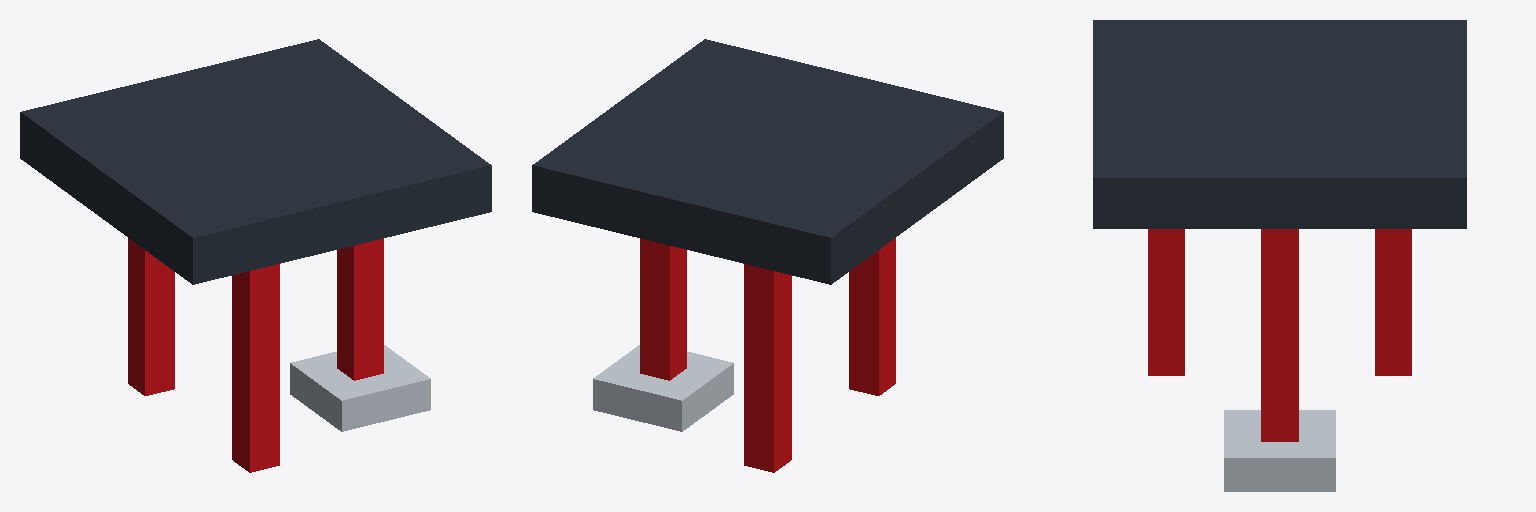
robot.urdf — delta_picker:
<?xml version="1.0"?>
<robot name="delta_picker" version="1.2">
  <material name="frame">
    <color rgba="0.22 0.25 0.29 1"/>
  </material>
  <material name="arm_red">
    <color rgba="0.84 0.12 0.14 1"/>
  </material>
  <material name="tool">
    <color rgba="0.8 0.83 0.86 1"/>
  </material>
  <link name="base_link">
    <inertial><origin xyz="0 0 0" rpy="0 0 0"/><mass value="12"/><inertia ixx="0.01" ixy="0" ixz="0" iyy="0.01" iyz="0" izz="0.01"/></inertial>
    <visual><origin xyz="0 0 0" rpy="0 0 0"/><geometry><mesh filename="meshes/top-platform.stl"/></geometry><material name="frame"/></visual>
    <collision><origin xyz="0 0 0" rpy="0 0 0"/><geometry><box size="0.8 0.8 0.12"/></geometry></collision>
  </link>
  <link name="upper_arm_1">
    <inertial><origin xyz="0 0 0" rpy="0 0 0"/><mass value="1.2"/><inertia ixx="0.01" ixy="0" ixz="0" iyy="0.01" iyz="0" izz="0.01"/></inertial>
    <visual><origin xyz="0 0 -0.29" rpy="0 0 0"/><geometry><box size="0.08 0.08 0.58"/></geometry><material name="arm_red"/></visual>
    <collision><origin xyz="0 0 -0.29" rpy="0 0 0"/><geometry><box size="0.08 0.08 0.58"/></geometry></collision>
  </link>
  <joint name="shoulder_1" type="revolute"><parent link="base_link"/><child link="upper_arm_1"/><origin xyz="0.2800 0.0000 -0.06" rpy="0 0 0"/><axis xyz="0.0000 1.0000 0"/><limit lower="-1.5708" upper="1.5708" effort="30" velocity="2"/></joint>
  <link name="upper_arm_2">
    <inertial><origin xyz="0 0 0" rpy="0 0 0"/><mass value="1.2"/><inertia ixx="0.01" ixy="0" ixz="0" iyy="0.01" iyz="0" izz="0.01"/></inertial>
    <visual><origin xyz="0 0 -0.29" rpy="0 0 0"/><geometry><box size="0.08 0.08 0.58"/></geometry><material name="arm_red"/></visual>
    <collision><origin xyz="0 0 -0.29" rpy="0 0 0"/><geometry><box size="0.08 0.08 0.58"/></geometry></collision>
  </link>
  <joint name="shoulder_2" type="revolute"><parent link="base_link"/><child link="upper_arm_2"/><origin xyz="-0.1400 0.2425 -0.06" rpy="0 0 0"/><axis xyz="-0.8660 -0.5000 0"/><limit lower="-1.5708" upper="1.5708" effort="30" velocity="2"/></joint>
  <link name="upper_arm_3">
    <inertial><origin xyz="0 0 0" rpy="0 0 0"/><mass value="1.2"/><inertia ixx="0.01" ixy="0" ixz="0" iyy="0.01" iyz="0" izz="0.01"/></inertial>
    <visual><origin xyz="0 0 -0.29" rpy="0 0 0"/><geometry><box size="0.08 0.08 0.58"/></geometry><material name="arm_red"/></visual>
    <collision><origin xyz="0 0 -0.29" rpy="0 0 0"/><geometry><box size="0.08 0.08 0.58"/></geometry></collision>
  </link>
  <joint name="shoulder_3" type="revolute"><parent link="base_link"/><child link="upper_arm_3"/><origin xyz="-0.1400 -0.2425 -0.06" rpy="0 0 0"/><axis xyz="0.8660 -0.5000 0"/><limit lower="-1.5708" upper="1.5708" effort="30" velocity="2"/></joint>
  <link name="tool_plate">
    <inertial><origin xyz="0 0 0" rpy="0 0 0"/><mass value="0.9"/><inertia ixx="0.01" ixy="0" ixz="0" iyy="0.01" iyz="0" izz="0.01"/></inertial>
    <visual><origin xyz="0 0 0" rpy="0 0 0"/><geometry><mesh filename="meshes/end-effector.obj"/></geometry><material name="tool"/></visual>
    <collision><origin xyz="0 0 0" rpy="0 0 0"/><geometry><cylinder radius="0.17" length="0.08"/></geometry></collision>
  </link>
  <joint name="tool_slide" type="prismatic"><parent link="upper_arm_1"/><child link="tool_plate"/><origin xyz="0 0 -0.58" rpy="0 0 0"/><axis xyz="0 0 -1"/><limit lower="0" upper="0.3" effort="50" velocity="0.8"/></joint>
</robot>

--- Render facts (derived) ---
Views: 3 orthographic renders of the robot side by side, from view 1: azimuth 30°, elevation 25°; view 2: azimuth 150°, elevation 25°; view 3: azimuth 270°, elevation 25°.
Model delta_picker with 5 links and 4 joints (3 revolute, 1 prismatic), rooted at base_link, posed every joint at zero.
Visible links, largest first — view 1: base_link, upper_arm_3, tool_plate, upper_arm_2, upper_arm_1; view 2: base_link, upper_arm_2, tool_plate, upper_arm_3, upper_arm_1; view 3: base_link, upper_arm_1, tool_plate, upper_arm_2, upper_arm_3.
Link boxes in pixels (x1=…): base_link: x1=20, y1=39, x2=491, y2=284; upper_arm_3: x1=232, y1=264, x2=279, y2=472; tool_plate: x1=290, y1=345, x2=430, y2=431; upper_arm_2: x1=128, y1=238, x2=174, y2=395; upper_arm_1: x1=337, y1=238, x2=383, y2=380; base_link: x1=532, y1=39, x2=1003, y2=284; upper_arm_2: x1=744, y1=264, x2=791, y2=472; tool_plate: x1=593, y1=345, x2=733, y2=431; upper_arm_3: x1=849, y1=238, x2=895, y2=395; upper_arm_1: x1=640, y1=238, x2=686, y2=380; base_link: x1=1093, y1=20, x2=1466, y2=228; upper_arm_1: x1=1261, y1=229, x2=1298, y2=441; tool_plate: x1=1224, y1=410, x2=1335, y2=491; upper_arm_2: x1=1375, y1=229, x2=1411, y2=375; upper_arm_3: x1=1148, y1=229, x2=1184, y2=375.
Bounding box of the posed robot: 0.8 × 0.8 × 0.74 m (x, y, z).
2 mesh visuals loaded from 2 distinct referenced files (1 ASCII STL, 1 OBJ).
